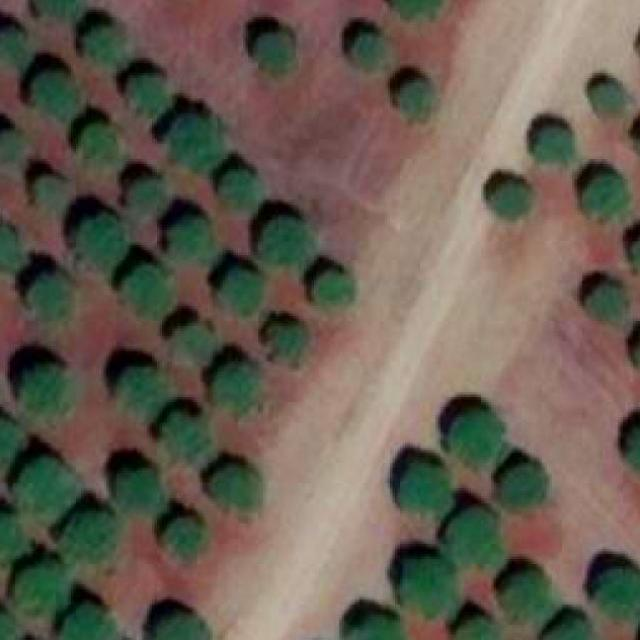Tree: (15, 460, 79, 518), (449, 508, 504, 569), (451, 409, 506, 468), (400, 559, 456, 615), (170, 117, 226, 170), (15, 564, 69, 618), (398, 463, 454, 511), (64, 510, 117, 559), (122, 367, 170, 420), (79, 218, 123, 271), (597, 569, 640, 623), (210, 465, 258, 513), (125, 265, 170, 316), (261, 220, 312, 265), (113, 471, 162, 514), (504, 572, 550, 616), (172, 326, 221, 367), (170, 220, 216, 263), (33, 73, 79, 116), (501, 466, 547, 509), (216, 365, 259, 410), (165, 412, 206, 458), (63, 606, 117, 640), (582, 174, 626, 215), (22, 367, 61, 412), (30, 275, 69, 319), (256, 32, 297, 73), (221, 270, 261, 311), (81, 127, 122, 167), (164, 516, 203, 557), (587, 283, 628, 321), (218, 172, 261, 208), (127, 75, 165, 113), (534, 124, 572, 162), (395, 83, 433, 119), (157, 614, 207, 640), (314, 273, 354, 304), (86, 30, 122, 64), (349, 35, 388, 66), (455, 616, 504, 640), (354, 614, 399, 640), (494, 184, 528, 218), (35, 177, 66, 213), (0, 513, 25, 556), (546, 619, 597, 640), (268, 326, 304, 355), (0, 29, 27, 66), (592, 83, 623, 113), (623, 422, 640, 476), (130, 182, 163, 208), (0, 419, 17, 467), (35, 0, 81, 17), (0, 224, 17, 267), (395, 0, 438, 15), (0, 134, 17, 161), (0, 614, 17, 640)
